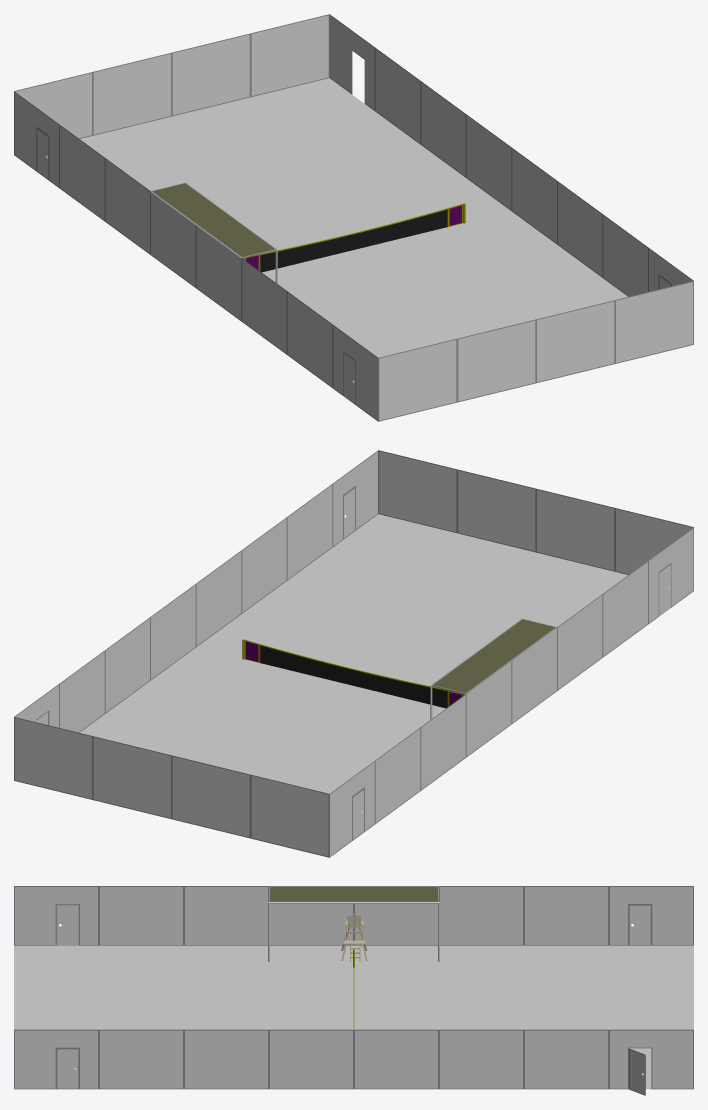
The model's file is tennis_court_skp.dae.
The picture shows the model from 3 angles, top to bottom: view 1: azimuth 30°, elevation 25°; view 2: azimuth 150°, elevation 25°; view 3: azimuth 270°, elevation 25°; orthographic projection. The views are drawn at different scales.
Parts seen in each view (by area): view 1: node_c47c2f4c_5a3e_40f9_bb92_1f85aa4178be_mesh0, node_5a1ee9c0_97d1_40f1_99c0_fa0c0d1ea5ad_mesh0, node_1939444b_d4a7_40a8_9fea_79b865e6f3e4_mesh0, node_9f5b2475_13f9_4666_b7cd_ca87ebb53143_mesh0, node_fc726a8b_a316_4bba_b347_04d8aef3d4b0_mesh0, node_e56464d7_74ad_48e5_8e91_a068f85753a4_mesh0, node_bf8b7544_0949_46be_aa69_9c86654f48b8_mesh0, node_6e3fea5f_4020_4a20_be40_0f9cee866571_mesh0, node_3982eebf_cf32_40f1_961d_f175267d727c_mesh0, node_d3db3a17_1380_4612_b74d_4f0189b5855e_mesh0, node_ecebdca2_4005_4cfa_ad7b_dc4212589035_mesh0, node_ee80c62c_7772_4c54_ac3c_e239c60ef0d5_mesh0 (+26 smaller); view 2: node_c47c2f4c_5a3e_40f9_bb92_1f85aa4178be_mesh0, node_1939444b_d4a7_40a8_9fea_79b865e6f3e4_mesh0, node_5a1ee9c0_97d1_40f1_99c0_fa0c0d1ea5ad_mesh0, node_6e3fea5f_4020_4a20_be40_0f9cee866571_mesh0, node_717cd6d6_37bb_4d8e_8084_820cc71bddf8_mesh0, node_d3db3a17_1380_4612_b74d_4f0189b5855e_mesh0, node_3982eebf_cf32_40f1_961d_f175267d727c_mesh0, node_fc726a8b_a316_4bba_b347_04d8aef3d4b0_mesh0, node_e56464d7_74ad_48e5_8e91_a068f85753a4_mesh0, node_9f5b2475_13f9_4666_b7cd_ca87ebb53143_mesh0, node_3d6836b6_5256_49ad_89a6_604a1ccecaa8_mesh0, node_b1367bf8_a607_4c6e_8717_ac21ad88413b_mesh0 (+26 smaller); view 3: node_c47c2f4c_5a3e_40f9_bb92_1f85aa4178be_mesh0, node_892dd9e7_995f_41fd_b3ca_42e6126d2896_mesh0, node_fa9d0440_7729_4c51_9f21_eb0f520dae35_mesh0, node_50b2fd7a_7696_4a06_b5e8_3c04a2e12245_mesh0, node_e26223d8_933d_4818_bb78_8c4b2b2cdff7_mesh0, node_c0e2a236_4fb8_4f2b_82ca_b625980e7f48_mesh0, node_4725eb16_cea5_424c_9ff1_a3760e988bae_mesh0, node_f76bec15_3604_4219_b6db_5bbe33473367_mesh0, node_e8dffecc_1dc5_4032_b4ff_274e8ee3c6e4_mesh0, node_7dea488d_cb8e_48ee_b0d2_507409a5ee48_mesh0, node_4e2ed51d_772a_4ec4_8317_1bca830f6f5c_mesh0, node_1939444b_d4a7_40a8_9fea_79b865e6f3e4_mesh0 (+31 smaller).
Boxes of the visible parts, bbox=[...] form: node_c47c2f4c_5a3e_40f9_bb92_1f85aa4178be_mesh0: bbox=[46, 78, 627, 382]; node_5a1ee9c0_97d1_40f1_99c0_fa0c0d1ea5ad_mesh0: bbox=[348, 280, 540, 352]; node_1939444b_d4a7_40a8_9fea_79b865e6f3e4_mesh0: bbox=[166, 146, 359, 216]; node_9f5b2475_13f9_4666_b7cd_ca87ebb53143_mesh0: bbox=[251, 15, 328, 95]; node_fc726a8b_a316_4bba_b347_04d8aef3d4b0_mesh0: bbox=[93, 54, 170, 134]; node_e56464d7_74ad_48e5_8e91_a068f85753a4_mesh0: bbox=[537, 301, 614, 381]; node_bf8b7544_0949_46be_aa69_9c86654f48b8_mesh0: bbox=[379, 340, 456, 420]; node_6e3fea5f_4020_4a20_be40_0f9cee866571_mesh0: bbox=[172, 34, 249, 115]; node_3982eebf_cf32_40f1_961d_f175267d727c_mesh0: bbox=[458, 320, 535, 401]; node_d3db3a17_1380_4612_b74d_4f0189b5855e_mesh0: bbox=[616, 282, 692, 362]; node_ecebdca2_4005_4cfa_ad7b_dc4212589035_mesh0: bbox=[284, 250, 415, 313]; node_ee80c62c_7772_4c54_ac3c_e239c60ef0d5_mesh0: bbox=[355, 233, 486, 295]; node_c47c2f4c_5a3e_40f9_bb92_1f85aa4178be_mesh0: bbox=[80, 514, 669, 812]; node_1939444b_d4a7_40a8_9fea_79b865e6f3e4_mesh0: bbox=[167, 716, 359, 788]; node_5a1ee9c0_97d1_40f1_99c0_fa0c0d1ea5ad_mesh0: bbox=[348, 582, 541, 652]; node_6e3fea5f_4020_4a20_be40_0f9cee866571_mesh0: bbox=[93, 737, 170, 817]; node_717cd6d6_37bb_4d8e_8084_820cc71bddf8_mesh0: bbox=[251, 776, 328, 856]; node_d3db3a17_1380_4612_b74d_4f0189b5855e_mesh0: bbox=[379, 451, 456, 531]; node_3982eebf_cf32_40f1_961d_f175267d727c_mesh0: bbox=[537, 490, 614, 570]; node_fc726a8b_a316_4bba_b347_04d8aef3d4b0_mesh0: bbox=[172, 756, 249, 837]; node_e56464d7_74ad_48e5_8e91_a068f85753a4_mesh0: bbox=[458, 470, 535, 551]; node_9f5b2475_13f9_4666_b7cd_ca87ebb53143_mesh0: bbox=[15, 718, 91, 798]; node_3d6836b6_5256_49ad_89a6_604a1ccecaa8_mesh0: bbox=[292, 686, 423, 749]; node_b1367bf8_a607_4c6e_8717_ac21ad88413b_mesh0: bbox=[221, 669, 352, 731]; node_c47c2f4c_5a3e_40f9_bb92_1f85aa4178be_mesh0: bbox=[14, 945, 693, 1089]; node_892dd9e7_995f_41fd_b3ca_42e6126d2896_mesh0: bbox=[525, 1030, 607, 1088]; node_fa9d0440_7729_4c51_9f21_eb0f520dae35_mesh0: bbox=[440, 1030, 522, 1088]; node_50b2fd7a_7696_4a06_b5e8_3c04a2e12245_mesh0: bbox=[355, 1030, 437, 1088]; node_e26223d8_933d_4818_bb78_8c4b2b2cdff7_mesh0: bbox=[270, 1030, 352, 1088]; node_c0e2a236_4fb8_4f2b_82ca_b625980e7f48_mesh0: bbox=[185, 1030, 267, 1088]; node_4725eb16_cea5_424c_9ff1_a3760e988bae_mesh0: bbox=[100, 1030, 182, 1088]; node_f76bec15_3604_4219_b6db_5bbe33473367_mesh0: bbox=[100, 887, 182, 944]; node_e8dffecc_1dc5_4032_b4ff_274e8ee3c6e4_mesh0: bbox=[185, 887, 267, 944]; node_7dea488d_cb8e_48ee_b0d2_507409a5ee48_mesh0: bbox=[440, 887, 522, 944]; node_4e2ed51d_772a_4ec4_8317_1bca830f6f5c_mesh0: bbox=[525, 887, 607, 944]; node_1939444b_d4a7_40a8_9fea_79b865e6f3e4_mesh0: bbox=[474, 985, 573, 1029].
Bounding box in the file's own units: 752 × 1440 × 140.
